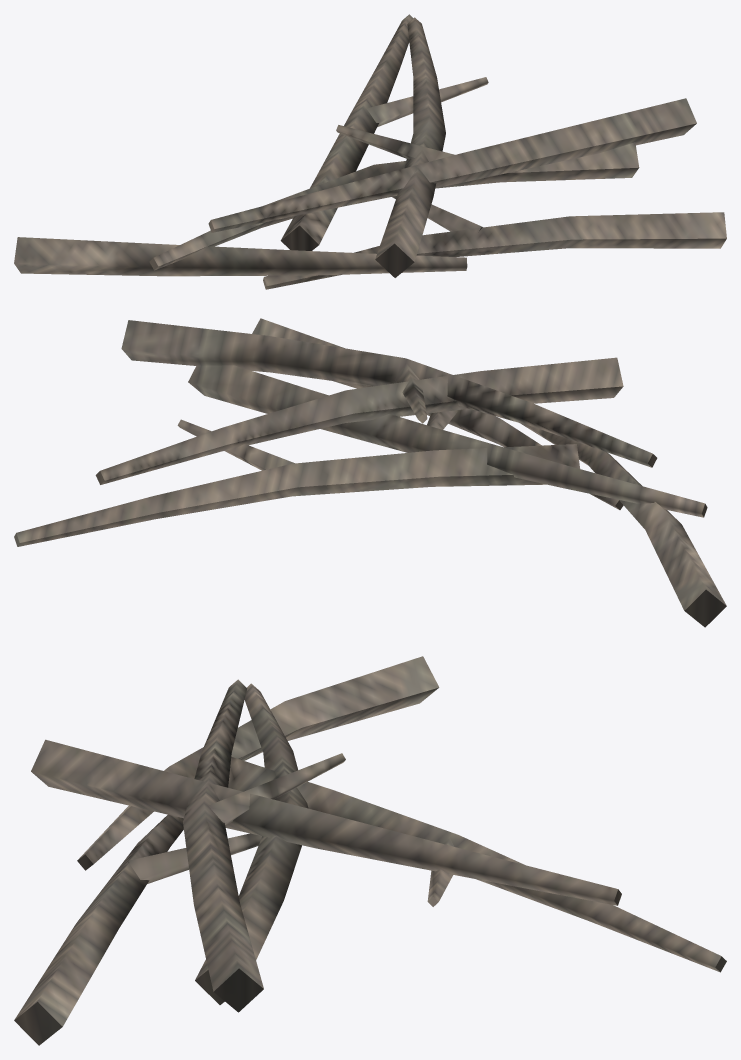
File: twigs_01.glb
3 renders of one model, top to bottom at view 1: azimuth 30°, elevation 25°; view 2: azimuth 150°, elevation 25°; view 3: azimuth 270°, elevation 25°, orthographic. The views are drawn at different scales.
Parts seen in each view (by area): view 1: twigs_01; view 2: twigs_01; view 3: twigs_01.
Part boxes in pixels (x1=…): twigs_01: x1=14, y1=14, x2=726, y2=289; twigs_01: x1=14, y1=318, x2=726, y2=627; twigs_01: x1=14, y1=656, x2=726, y2=1045.
Bounding box in the file's own units: 0.7532 × 0.1196 × 0.5995.
1 material, 1 textured.
